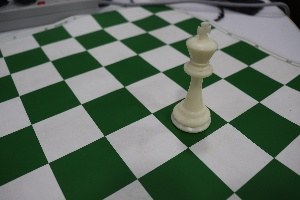white_king: (168, 8, 220, 141)
